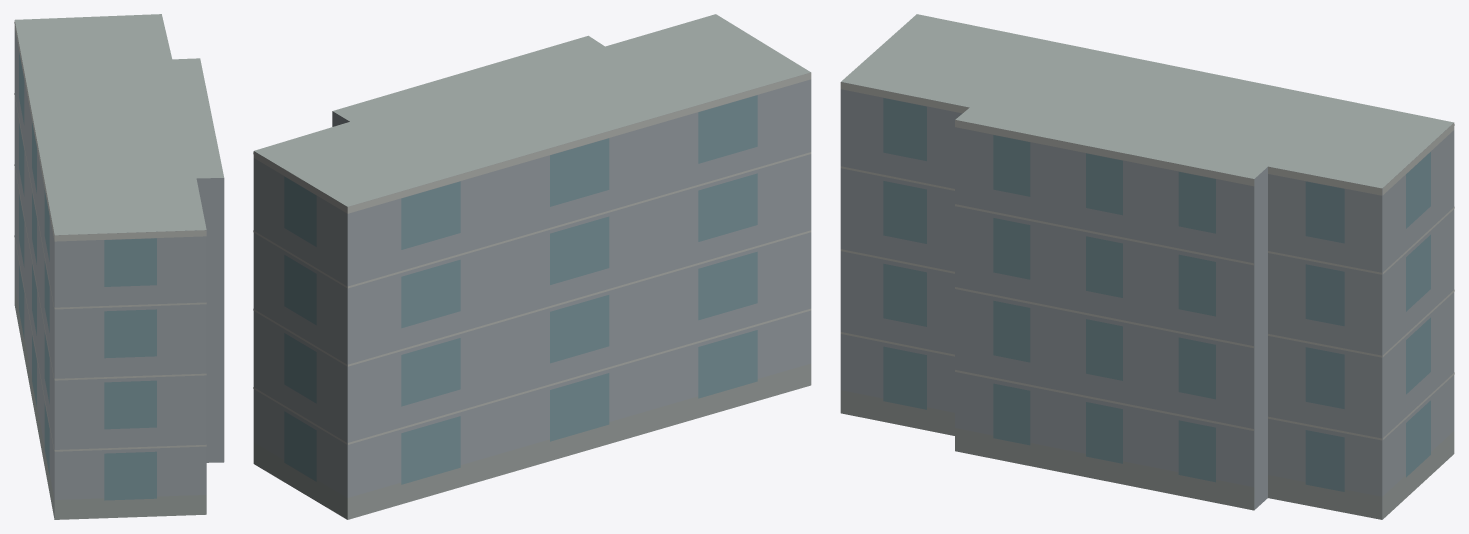
Rendered from survey-upis-32630978.glb.
3 views of the same model, side by side, from view 1: azimuth 30°, elevation 25°; view 2: azimuth 150°, elevation 25°; view 3: azimuth 270°, elevation 25° (orthographic). The views are drawn at different scales.
Parts seen in each view (by area): view 1: survey-upis-32630978.tmp; view 2: survey-upis-32630978.tmp; view 3: survey-upis-32630978.tmp.
Boxes of the visible parts, <box> form: survey-upis-32630978.tmp: <box>14,14,224,519</box>; survey-upis-32630978.tmp: <box>253,14,811,519</box>; survey-upis-32630978.tmp: <box>840,14,1454,519</box>.
Size of the model in its own units: 12.44 by 11 by 18.48.
